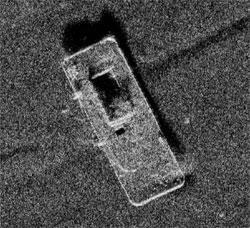ship: (58, 32, 187, 208)
